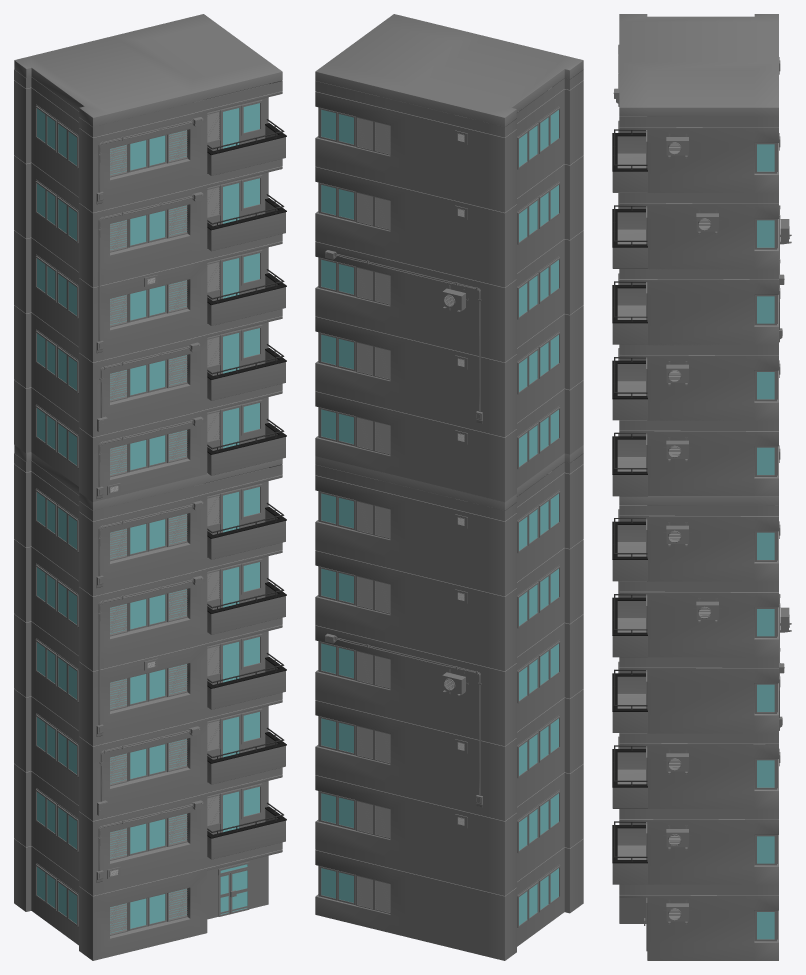
The model's file is SM_apartment_building_05.fbx.
The picture shows the model from 3 angles, left to right: view 1: azimuth 30°, elevation 25°; view 2: azimuth 150°, elevation 25°; view 3: azimuth 270°, elevation 25°; orthographic projection.
Visible parts, largest first — view 1: Box766; view 2: Box766; view 3: Box766.
Boxes of the visible parts, left/top/right/bottom form: Box766: left=14, top=14, right=286, bottom=960; Box766: left=315, top=14, right=583, bottom=960; Box766: left=612, top=14, right=791, bottom=960.
Size of the model in its own units: 435 by 1749 by 334.
